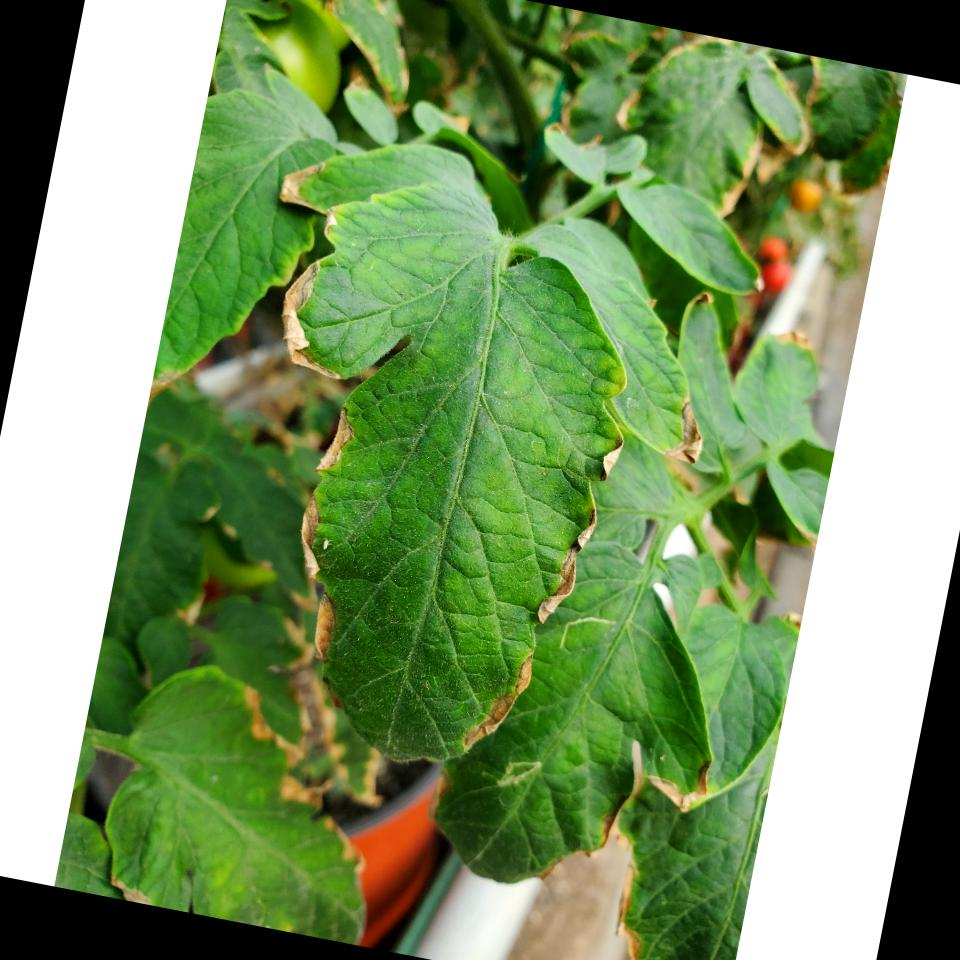tomato_bacterial_blight: (252, 355, 630, 798), (416, 516, 760, 914), (238, 118, 517, 418), (573, 255, 754, 481)
